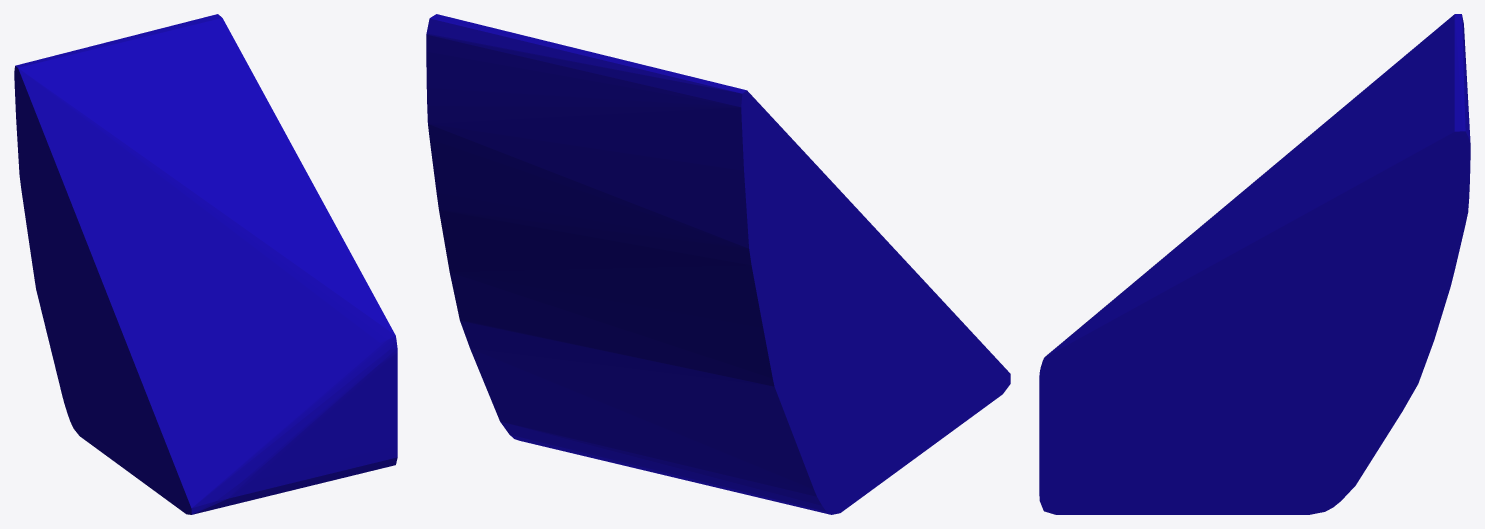
Rendered from left_hip_yaw_link_part_5.obj.
3 views of the same model, side by side, from view 1: azimuth 30°, elevation 25°; view 2: azimuth 150°, elevation 25°; view 3: azimuth 270°, elevation 25° (orthographic). The views are drawn at different scales.
Bounding box in the file's own units: 0.0218 × 0.033 × 0.0336.
